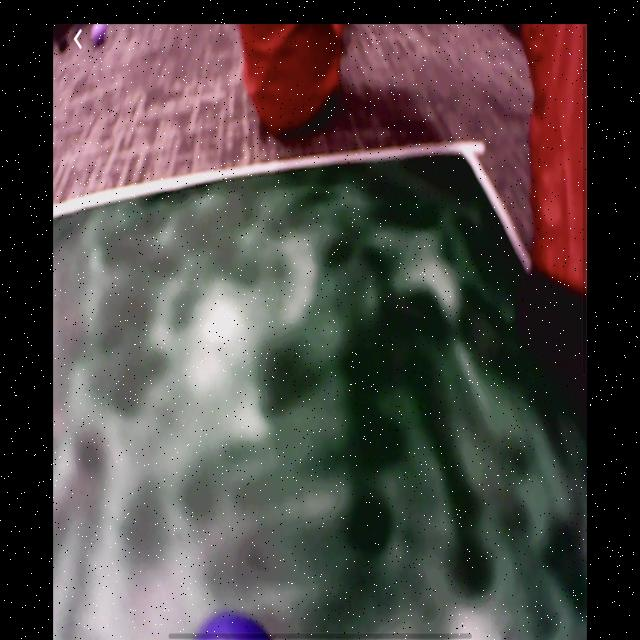ball: (194, 615, 277, 640), (91, 25, 106, 47)
